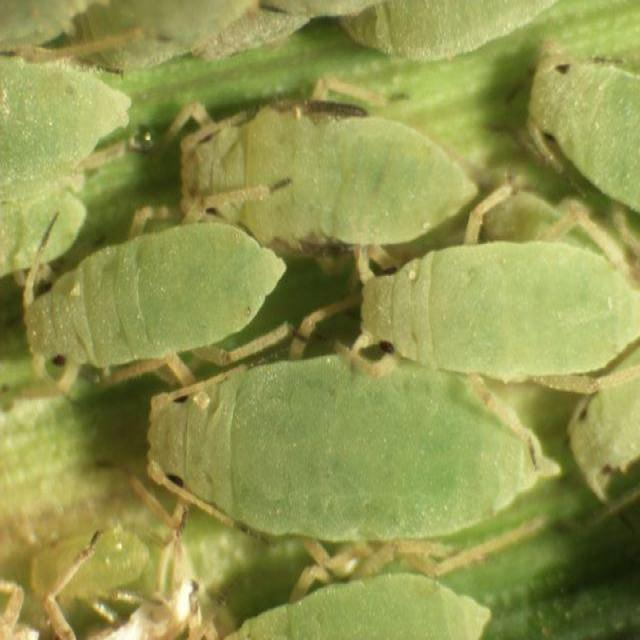aphid: (117, 334, 575, 570), (119, 61, 503, 267), (301, 217, 634, 400), (14, 198, 296, 382)
